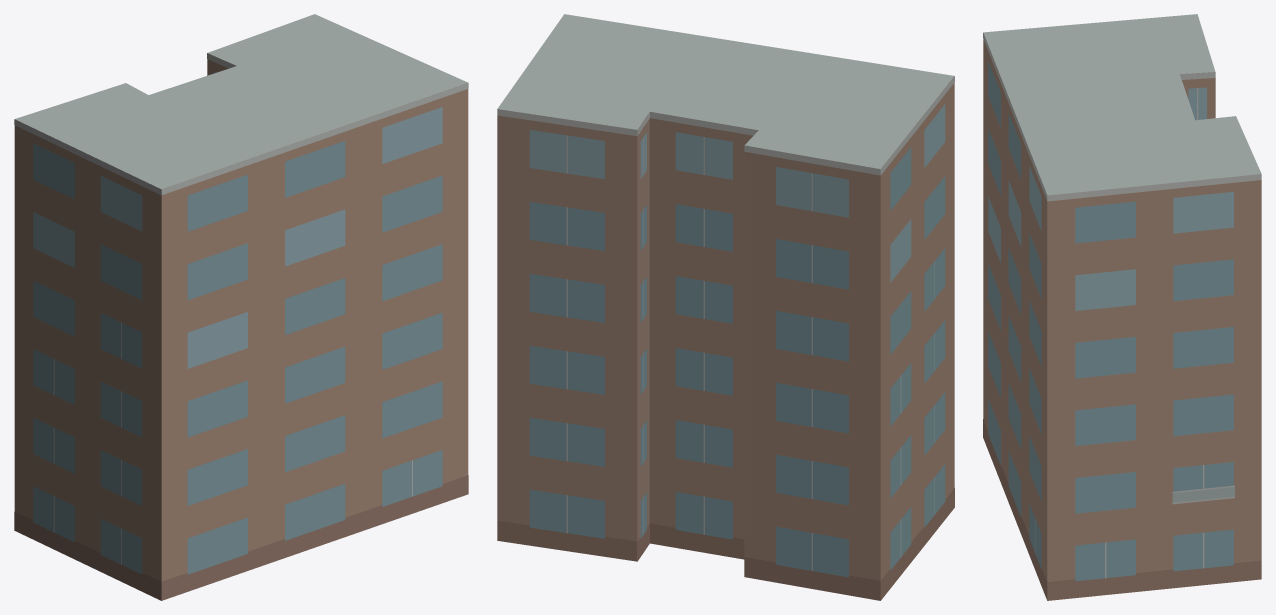
Rendered from survey-upis-32767780.glb.
3 renders of one model, left to right at view 1: azimuth 30°, elevation 25°; view 2: azimuth 150°, elevation 25°; view 3: azimuth 270°, elevation 25°, orthographic. The views are drawn at different scales.
Visible parts, largest first — view 1: survey-upis-32767780.tmp; view 2: survey-upis-32767780.tmp; view 3: survey-upis-32767780.tmp.
Boxes of the visible parts, x1,y1,x2,y2 form: survey-upis-32767780.tmp: [14, 14, 468, 600]; survey-upis-32767780.tmp: [497, 14, 954, 600]; survey-upis-32767780.tmp: [983, 14, 1261, 600].
Size of the model in its own units: 15.96 by 16.6 by 10.35.
